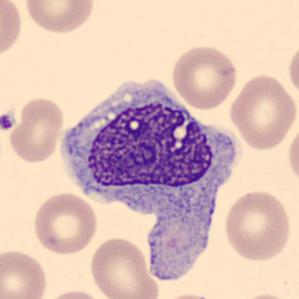Monocyte: (52, 72, 242, 232)
Platelets: (0, 111, 17, 132)
RBC: (228, 72, 298, 152), (222, 187, 293, 263), (169, 43, 240, 110), (87, 234, 158, 299), (30, 190, 98, 256), (6, 94, 66, 164), (22, 0, 97, 36), (0, 247, 50, 299), (0, 0, 24, 62), (285, 120, 299, 188), (285, 40, 299, 100), (40, 287, 106, 299), (157, 291, 221, 299), (235, 291, 295, 299)
